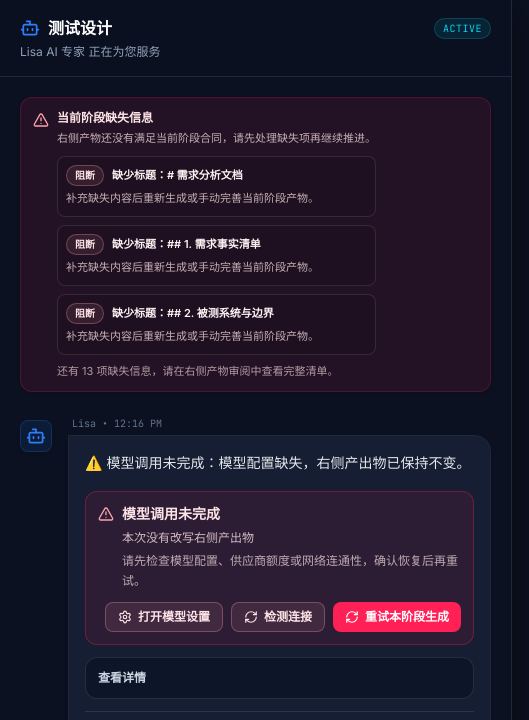
Test: ChatPane Component › shows a connection check failure from the provider failure recovery card
Click the button "检测连接". click: (278,617)
box: [231,602,325,632]
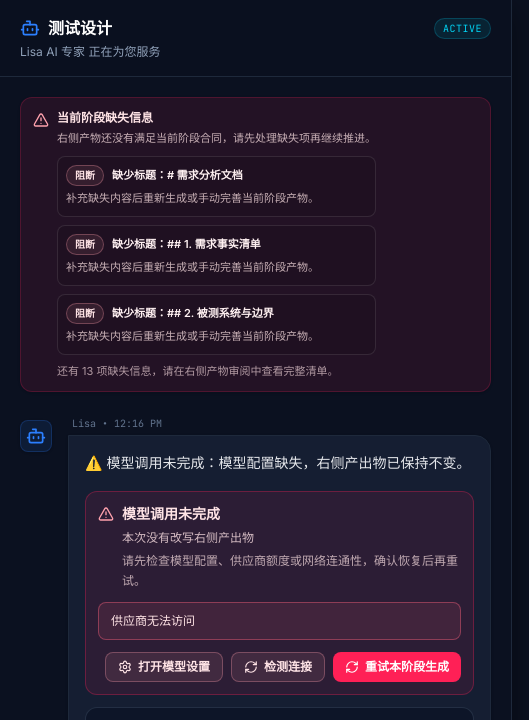
Expected: the text "供应商无法访问" is shown, [98,602,461,640]
